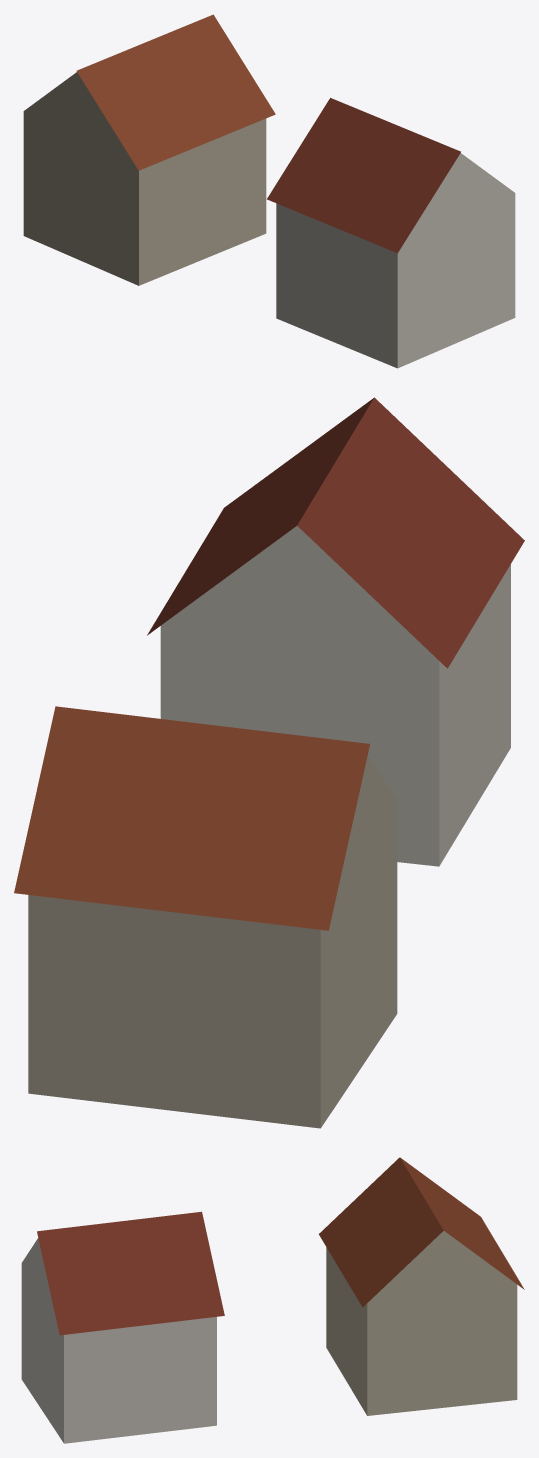
3 renders of one model, top to bottom at view 1: azimuth 30°, elevation 25°; view 2: azimuth 150°, elevation 25°; view 3: azimuth 270°, elevation 25°, orthographic. The views are drawn at different scales.
Visible parts, largest first — view 1: buildings; view 2: buildings; view 3: buildings.
Part boxes in pixels (left/top/right/bottom): buildings: left=23, top=14, right=515, bottom=368; buildings: left=14, top=397, right=524, bottom=1128; buildings: left=21, top=1157, right=524, bottom=1443.
Size of the model in its own units: 14.65 by 10.09 by 24.18.
